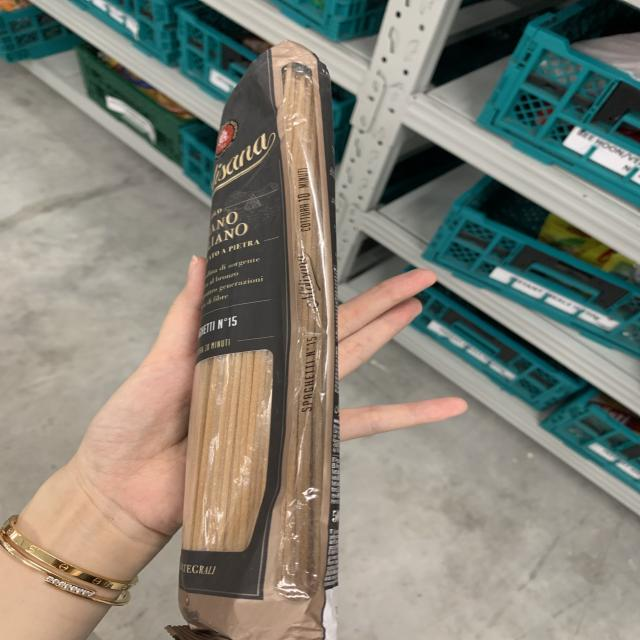object_name: (216, 80, 346, 639)
